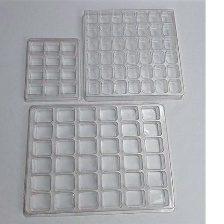plastic_box: (15, 98, 181, 222), (73, 2, 190, 105), (17, 32, 85, 105)
